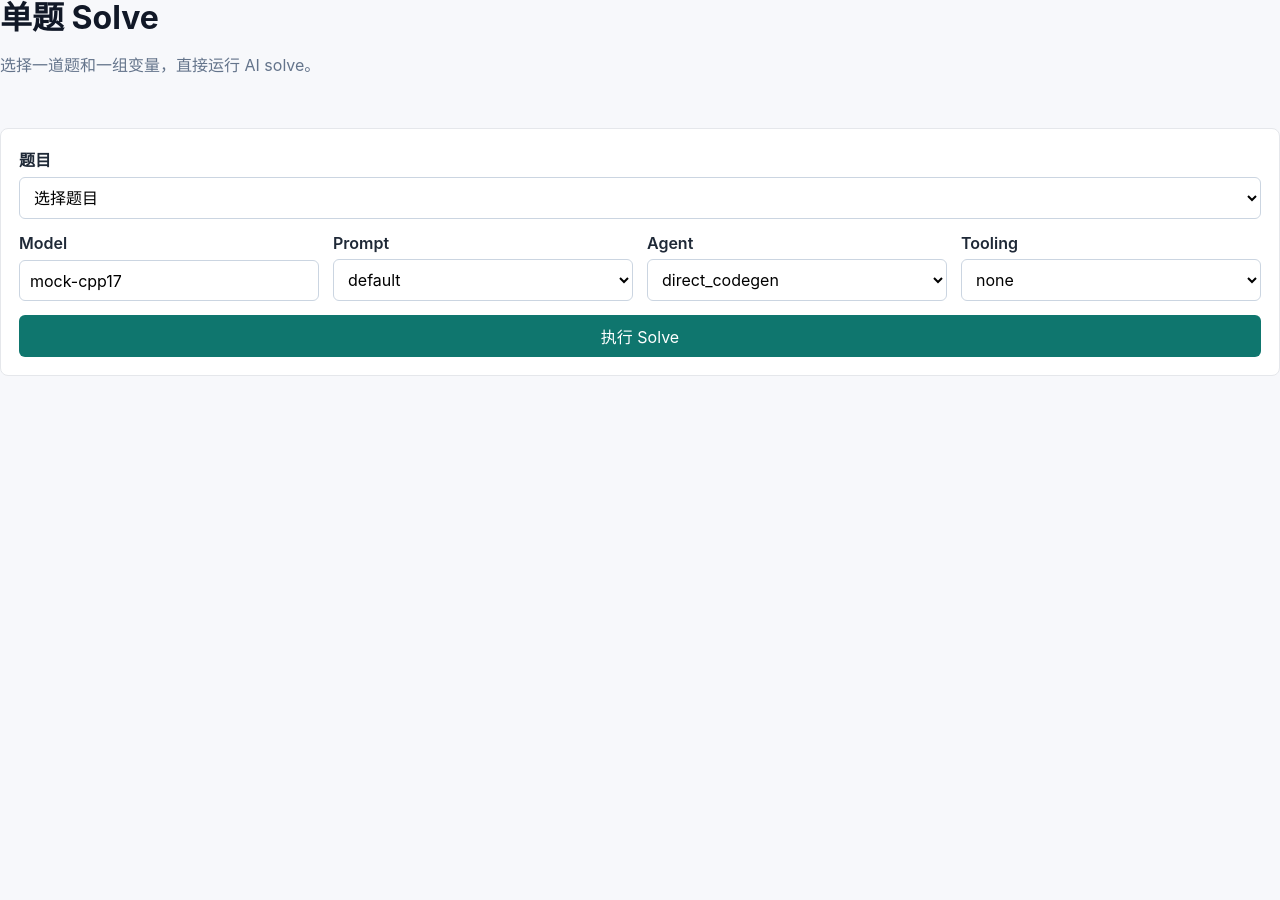
Test: SingleSolvePage › submits solve variables and renders the result
The width and height of the screenshot is (1280, 900).
Select "5 · Echo" in the dropdown labelled "题目": (640, 198) top-left (19, 177), bottom-right (1261, 219)
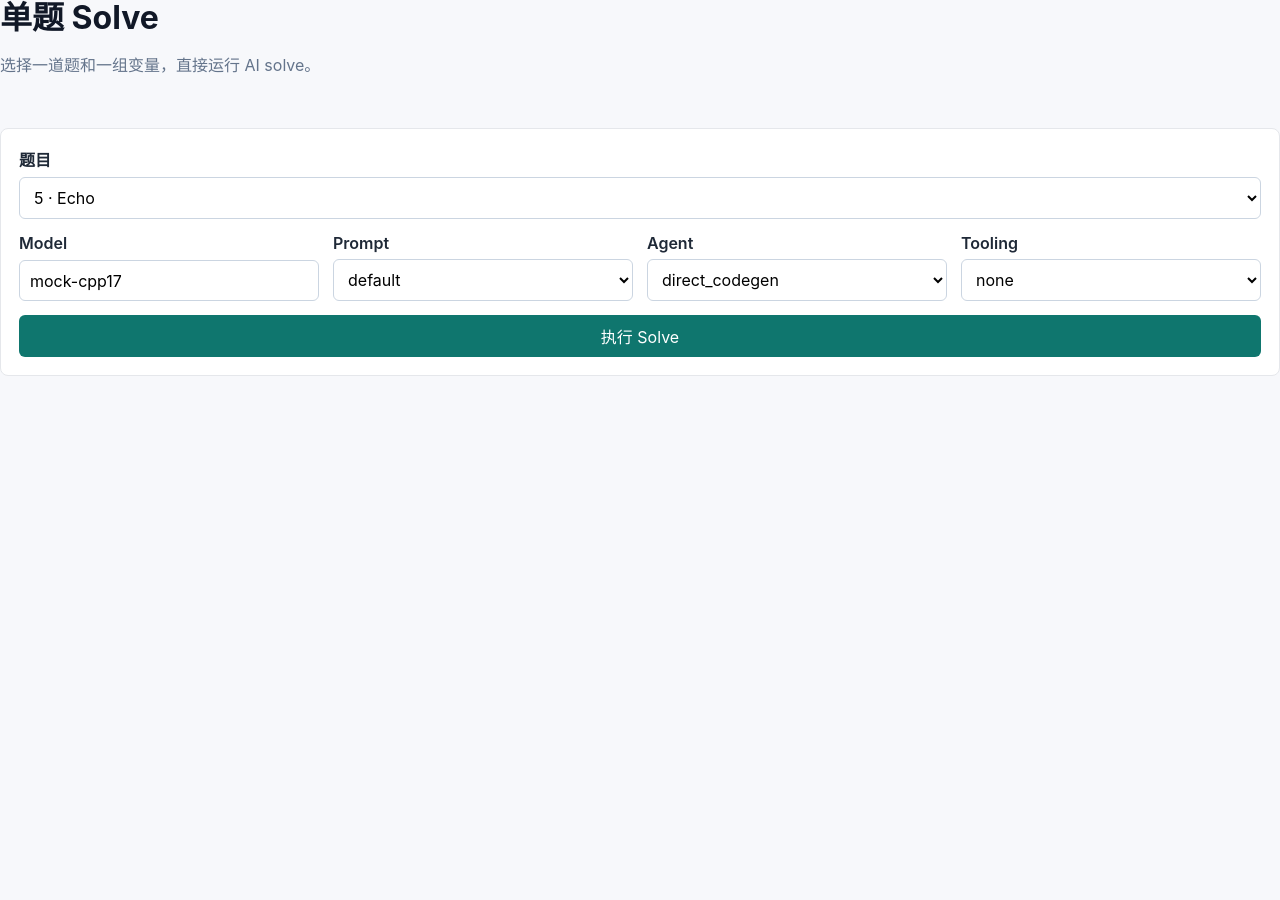
Select "sample_judge" in the dropdown labelled "Tooling": (1111, 280) top-left (961, 259), bottom-right (1261, 301)
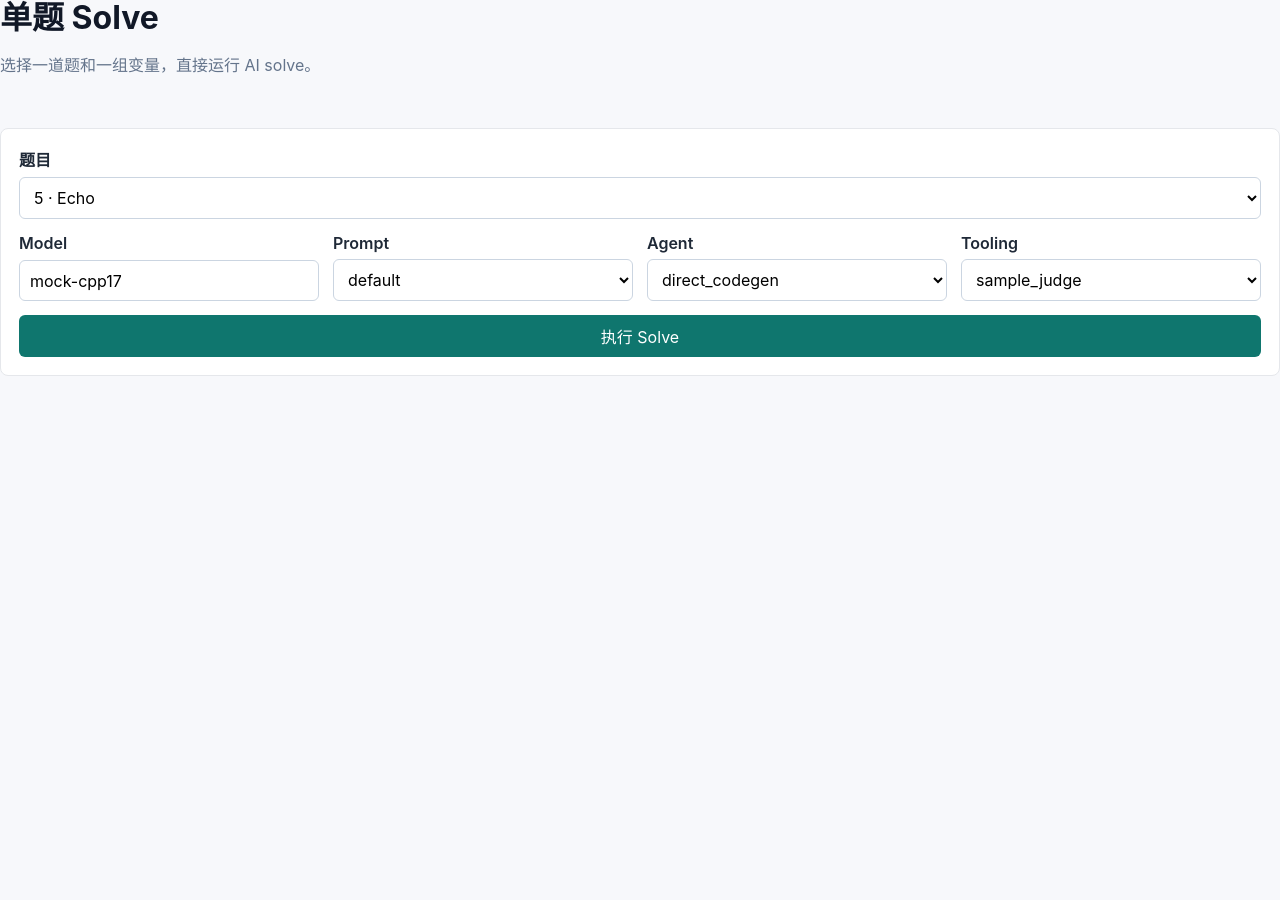
Click the button "执行 Solve": (640, 336) top-left (19, 315), bottom-right (1261, 357)
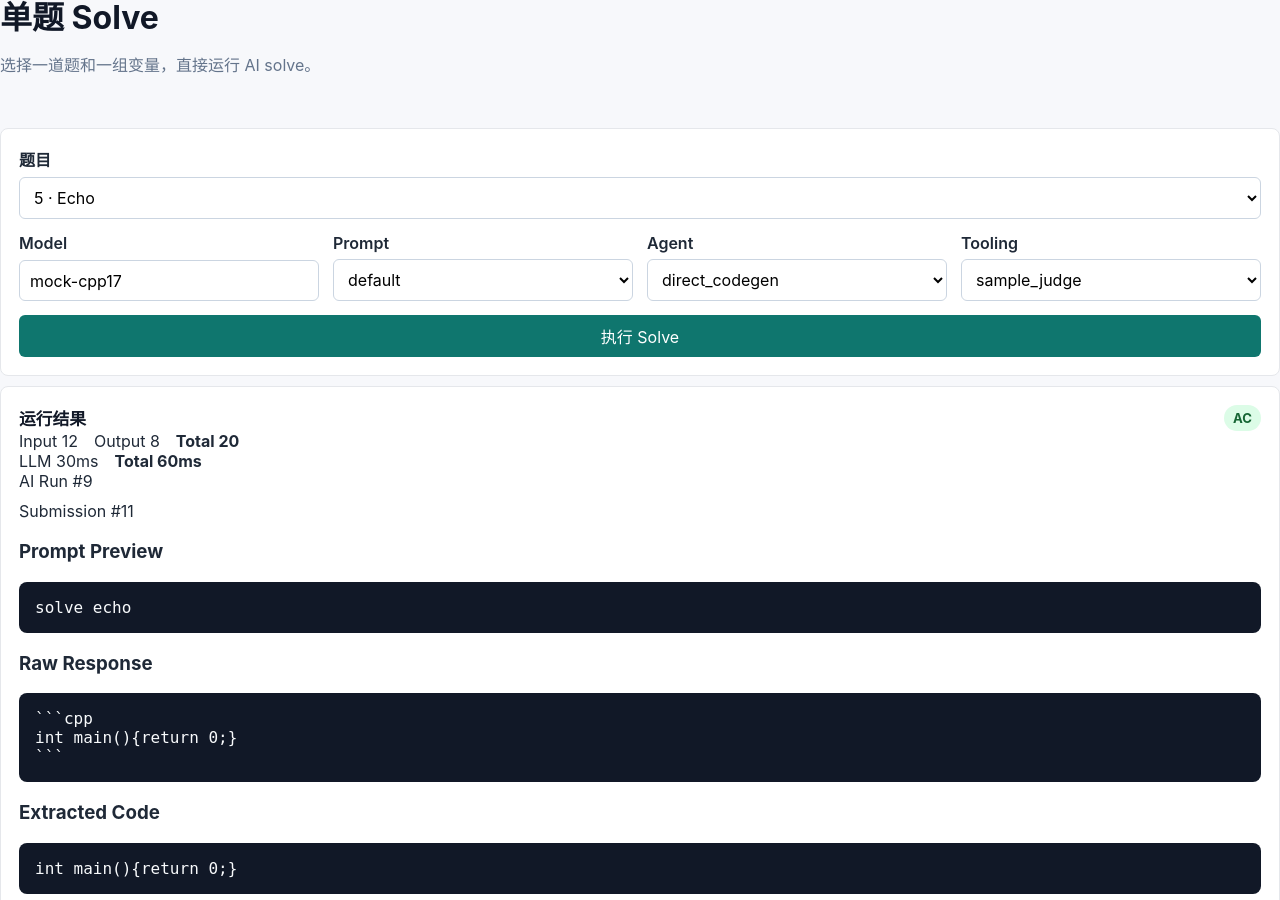
Now the text "AC" is shown, box top-left (1224, 405), bottom-right (1261, 431)
Now the text "Total 20" is shown, box top-left (176, 431), bottom-right (239, 451)
